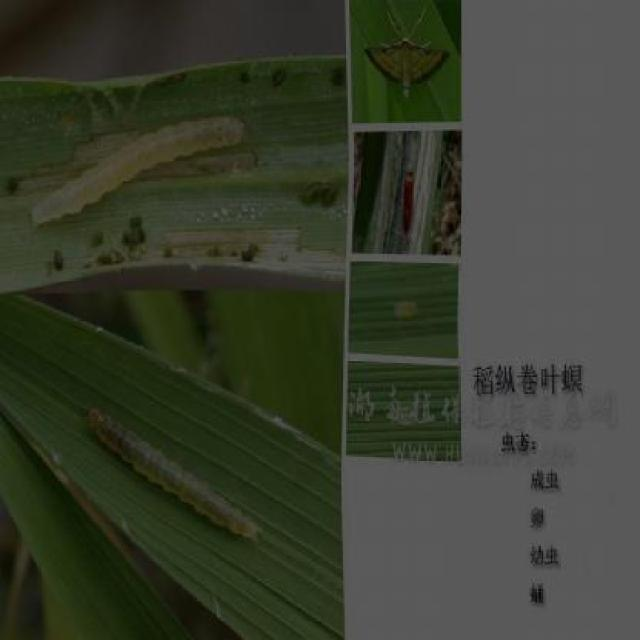leaf-folder: (82, 388, 269, 566), (22, 94, 260, 224), (393, 162, 429, 238), (378, 290, 428, 328)
